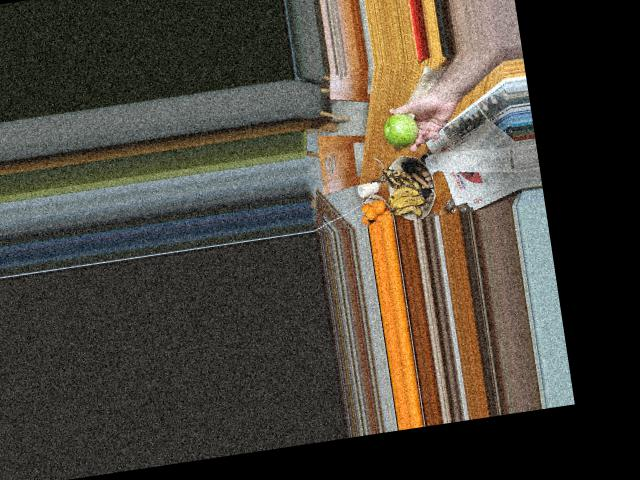apple: (381, 112, 421, 147)
